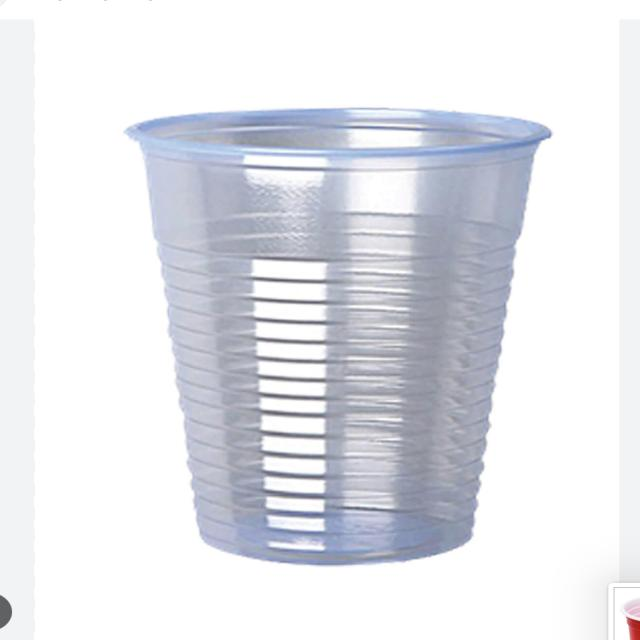recyclable: (95, 56, 582, 608)
